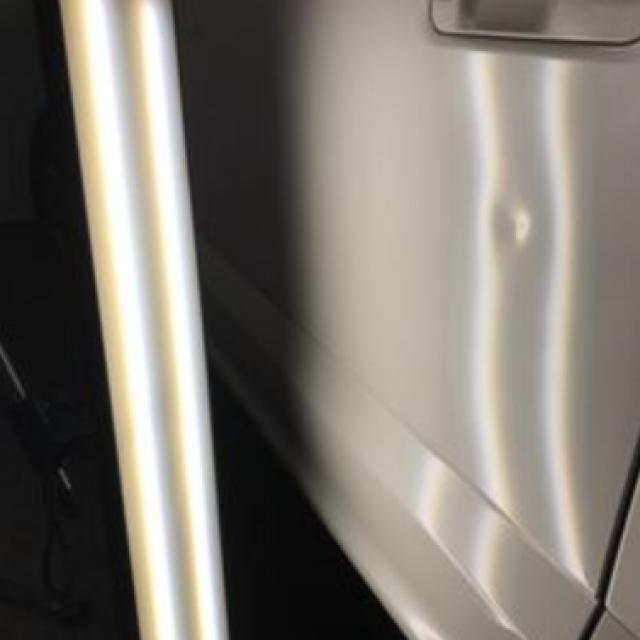dents: (474, 196, 594, 269)
